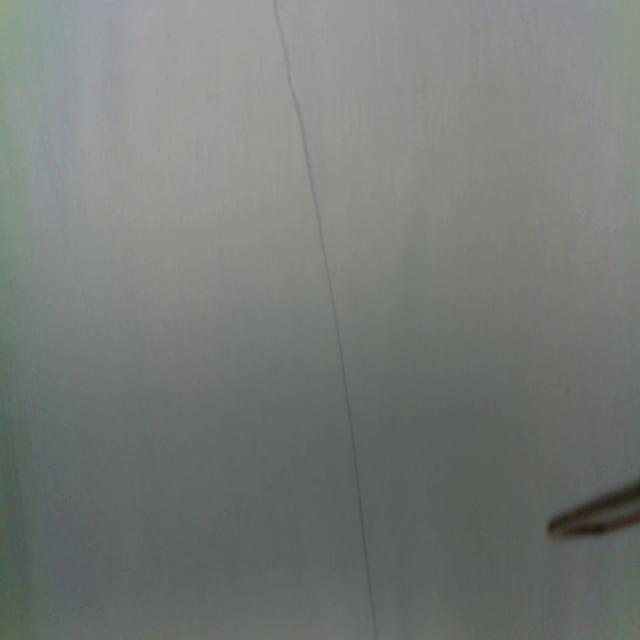crease: (274, 8, 377, 640)
